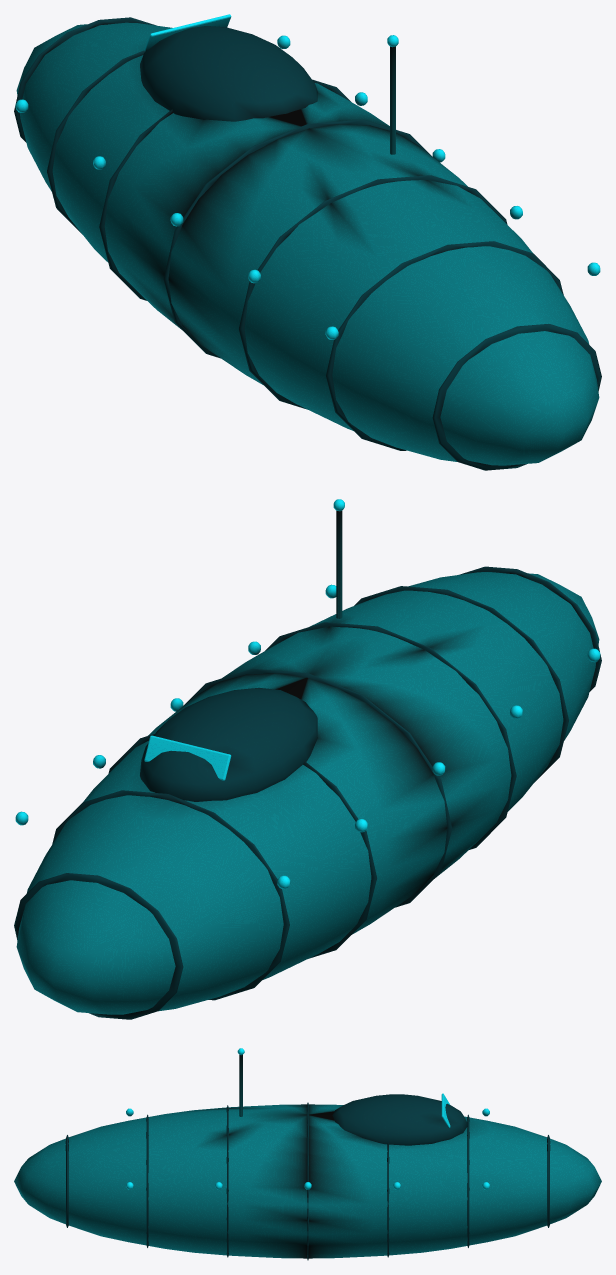
File: hull.glb
3 views of the same model, one above another, from view 1: azimuth 30°, elevation 25°; view 2: azimuth 150°, elevation 25°; view 3: azimuth 270°, elevation 25° (orthographic). The views are drawn at different scales.
Visible parts, largest first — view 1: hull; view 2: hull; view 3: hull.
Boxes of the visible parts, x1,y1,x2,y2 form: hull: (14,14,601,470); hull: (14,499,601,1019); hull: (14,1048,601,1260).
Size of the model in its own units: 4.3 by 5.19 by 13.2.
1 material, 1 textured.
